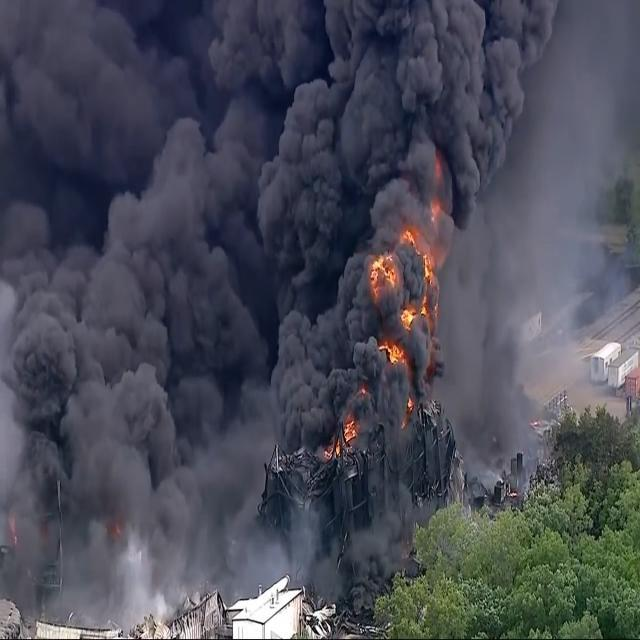Fire: (365, 149, 453, 423), (326, 416, 358, 468)
Smoke: (0, 0, 276, 615), (261, 0, 562, 468)
